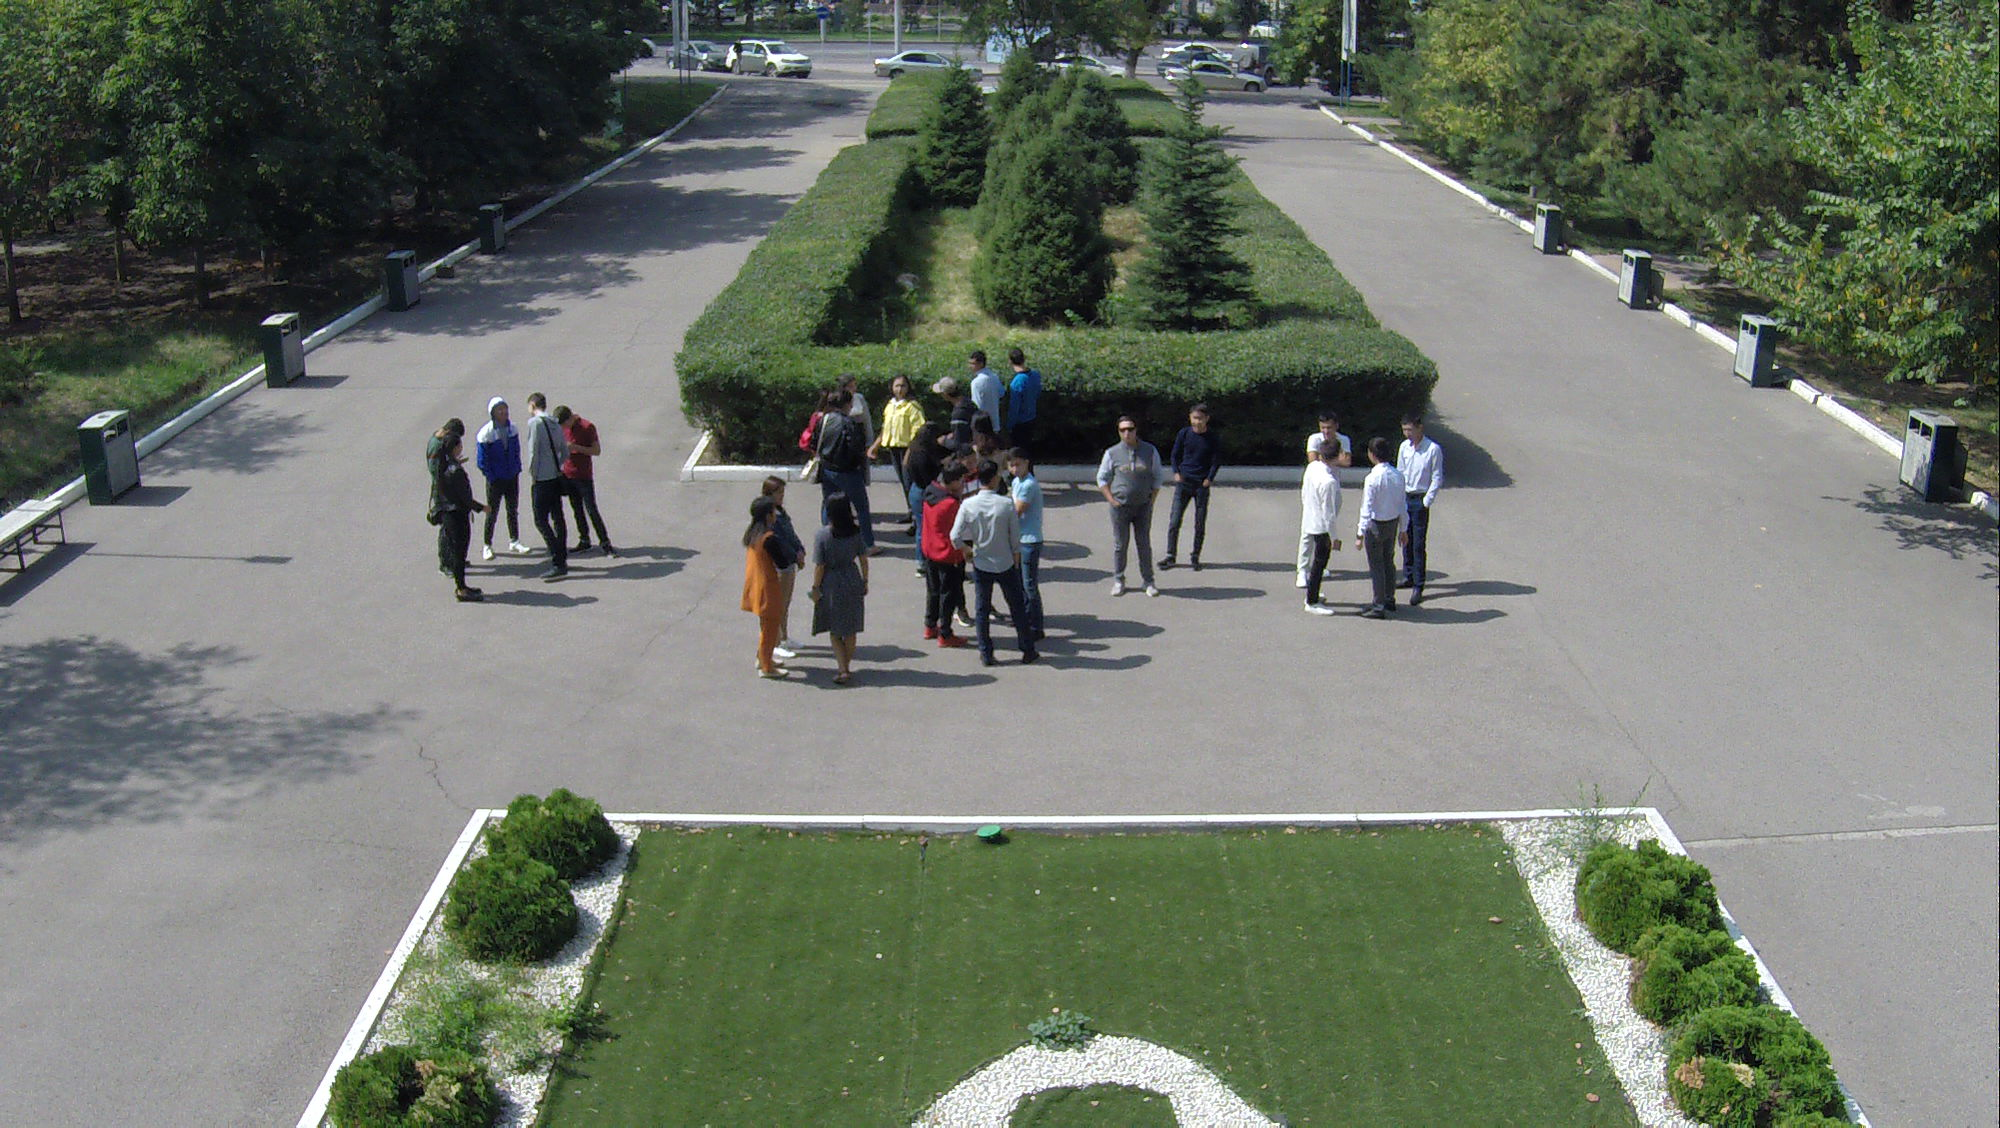person: (970, 468, 1049, 658), (812, 508, 887, 676), (1164, 405, 1228, 574), (1401, 410, 1451, 624), (735, 516, 797, 685), (1103, 426, 1164, 591), (555, 393, 616, 545), (428, 439, 482, 601), (922, 470, 968, 651), (1353, 447, 1401, 622), (526, 393, 566, 576), (480, 397, 522, 558), (1307, 449, 1341, 635), (995, 349, 1043, 453), (1012, 453, 1051, 580), (812, 393, 860, 489), (887, 372, 916, 480), (968, 351, 1001, 435), (932, 370, 966, 435), (1301, 416, 1341, 460)
